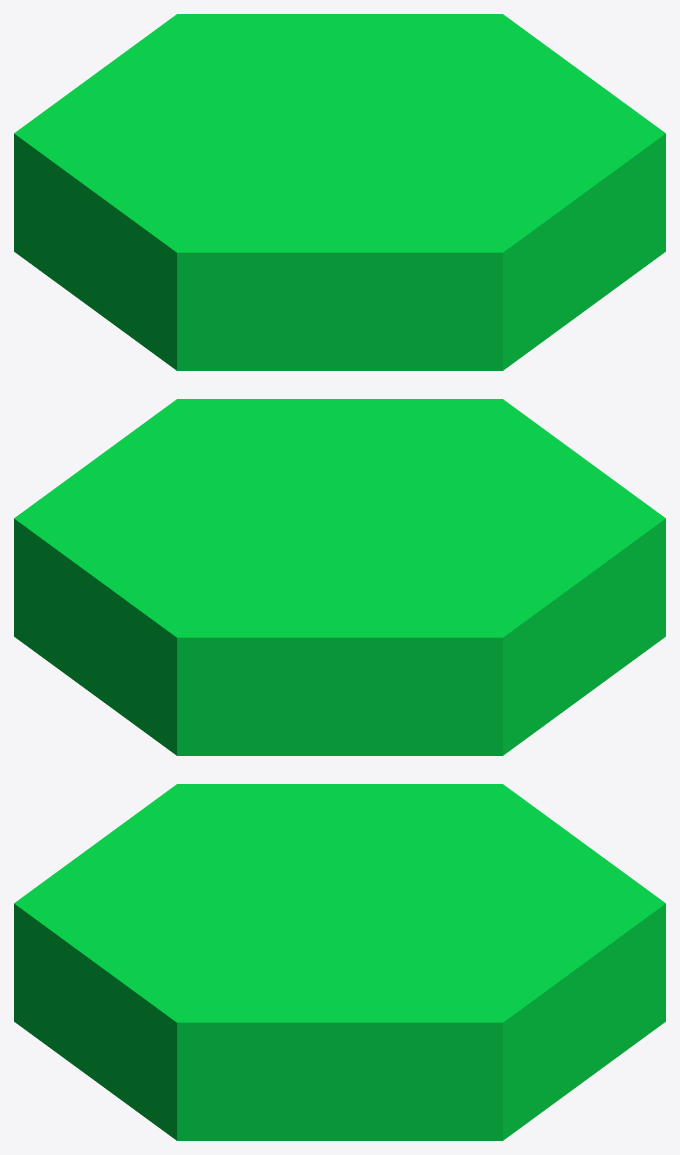
File: yeşilcombinedplaceholder.fbx
3 renders of one model, top to bottom at view 1: azimuth 30°, elevation 25°; view 2: azimuth 150°, elevation 25°; view 3: azimuth 270°, elevation 25°, orthographic.
Visible parts, largest first — view 1: Cylinder, Cylinder_cell.004, Cylinder_cell.008, Cylinder_cell.002, Cylinder_cell.009, Cylinder_cell.003, Cylinder_cell.006, Cylinder_cell.007, Cylinder_cell; view 2: Cylinder, Cylinder_cell.004, Cylinder_cell.002, Cylinder_cell.009, Cylinder_cell.003, Cylinder_cell.005, Cylinder_cell.001, Cylinder_cell.008; view 3: Cylinder, Cylinder_cell.002, Cylinder_cell.006, Cylinder_cell.009, Cylinder_cell.004, Cylinder_cell.001, Cylinder_cell.007.
Boxes of the visible parts, bbox=[...] form: Cylinder: bbox=[14, 14, 665, 370]; Cylinder_cell.004: bbox=[14, 74, 338, 251]; Cylinder_cell.008: bbox=[95, 203, 339, 370]; Cylinder_cell.002: bbox=[340, 14, 583, 132]; Cylinder_cell.009: bbox=[96, 14, 339, 132]; Cylinder_cell.003: bbox=[14, 193, 95, 310]; Cylinder_cell.006: bbox=[584, 165, 644, 282]; Cylinder_cell.007: bbox=[316, 252, 511, 311]; Cylinder_cell: bbox=[341, 272, 590, 370]; Cylinder: bbox=[14, 399, 665, 755]; Cylinder_cell.004: bbox=[340, 518, 597, 696]; Cylinder_cell.002: bbox=[14, 459, 338, 636]; Cylinder_cell.009: bbox=[96, 518, 339, 670]; Cylinder_cell.003: bbox=[340, 642, 582, 755]; Cylinder_cell.005: bbox=[95, 638, 339, 755]; Cylinder_cell.001: bbox=[14, 578, 95, 695]; Cylinder_cell.008: bbox=[584, 518, 665, 694]; Cylinder: bbox=[14, 784, 665, 1140]; Cylinder_cell.002: bbox=[340, 903, 584, 1081]; Cylinder_cell.006: bbox=[95, 964, 339, 1140]; Cylinder_cell.009: bbox=[341, 844, 665, 1021]; Cylinder_cell.004: bbox=[314, 784, 583, 902]; Cylinder_cell.001: bbox=[315, 1023, 584, 1140]; Cylinder_cell.007: bbox=[14, 903, 95, 1020].
Size of the model in its own units: 173 by 40 by 200.
